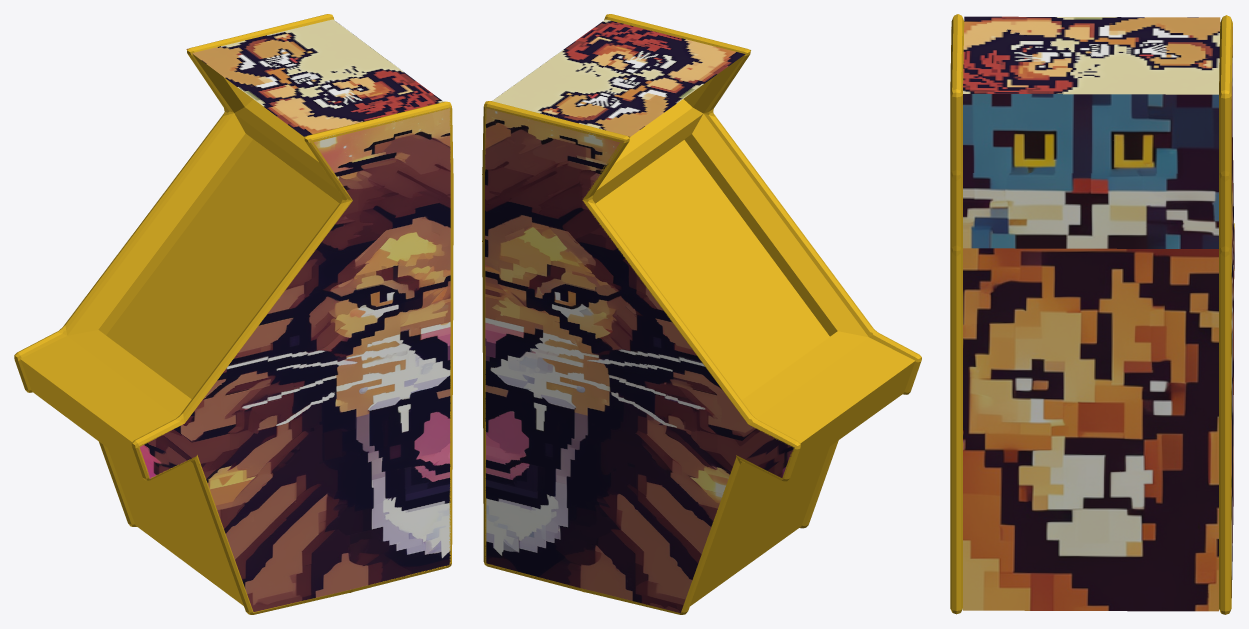
The picture shows the model from 3 angles, left to right: view 1: azimuth 30°, elevation 25°; view 2: azimuth 150°, elevation 25°; view 3: azimuth 270°, elevation 25°; orthographic projection. The views are drawn at different scales.
Parts seen in each view (by area): view 1: Cube; view 2: Cube; view 3: Cube.
Boxes of the visible parts, x1=… form: Cube: x1=14, y1=14, x2=453, y2=614; Cube: x1=482, y1=14, x2=921, y2=614; Cube: x1=950, y1=14, x2=1234, y2=614.
Size of the model in its own units: 3.26 by 4.54 by 2.22.
Materials: 4 (3 with a texture image).
